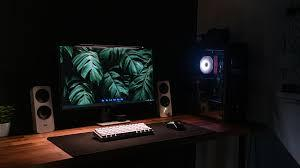keyboard: (92, 122, 154, 141)
